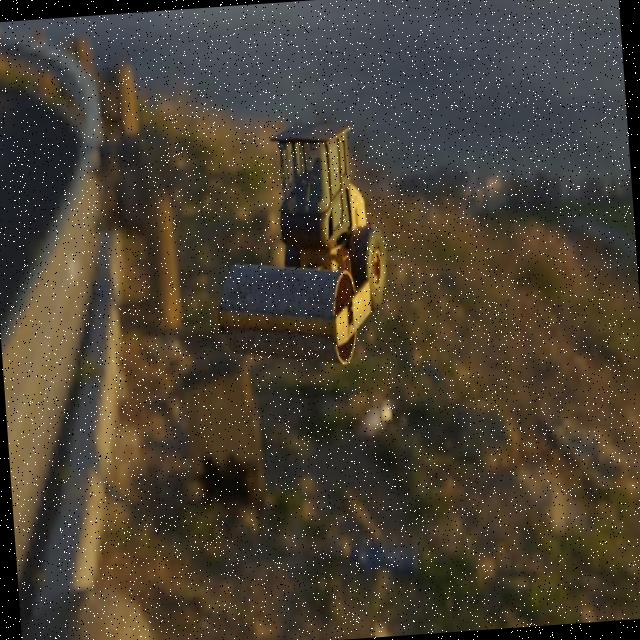Roller: (200, 116, 392, 372)
